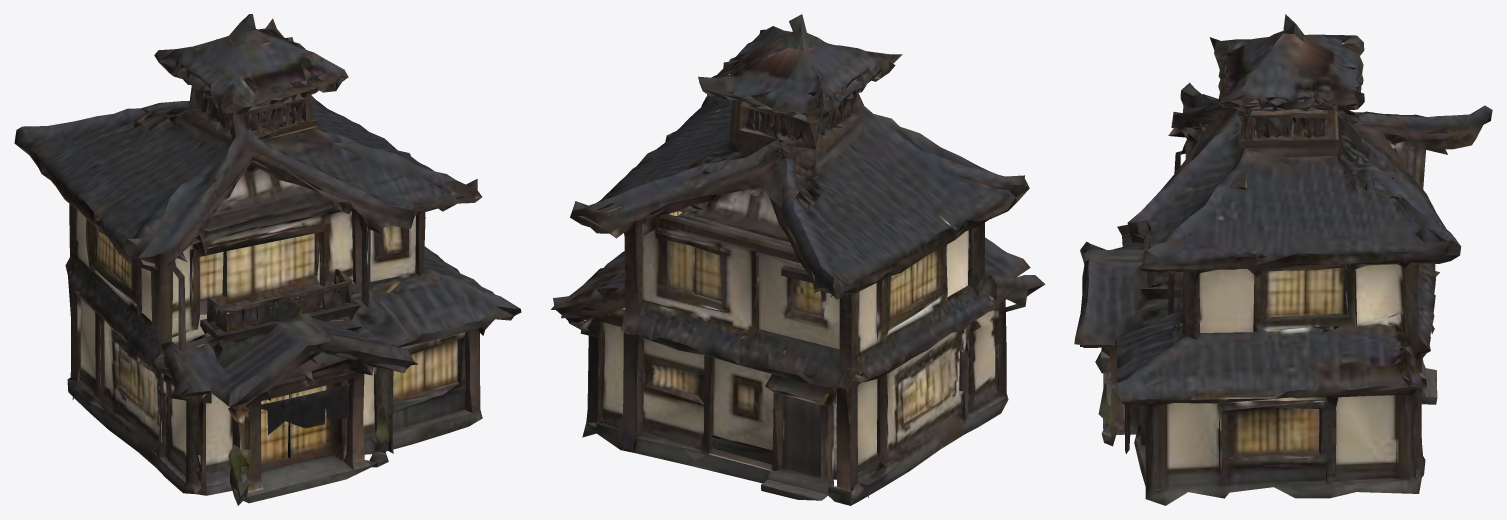
File: tower_2.glb
The picture shows the model from 3 angles, left to right: view 1: azimuth 30°, elevation 25°; view 2: azimuth 150°, elevation 25°; view 3: azimuth 270°, elevation 25°; orthographic projection. The views are drawn at different scales.
Visible parts, largest first — view 1: compact__tower_2__neural_lod; view 2: compact__tower_2__neural_lod; view 3: compact__tower_2__neural_lod.
Part boxes in pixels (box(x1,y1,x2,y2)): compact__tower_2__neural_lod: box(14, 14, 521, 505); compact__tower_2__neural_lod: box(551, 14, 1045, 505); compact__tower_2__neural_lod: box(1074, 14, 1492, 505).
Size of the model in its own units: 0.9378 by 0.9953 by 0.918.
Materials: 1 (1 with a texture image).
